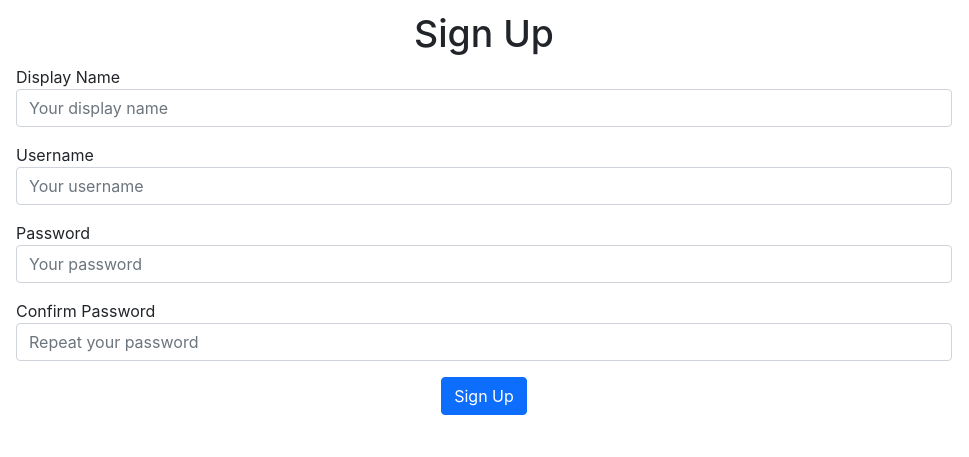
User Sign Up Page › Interactions › hides the validation error when user changes the content of username
In the field with placeholder "Your display name": (484, 108) [16,89,952,127], type "my-display-name"
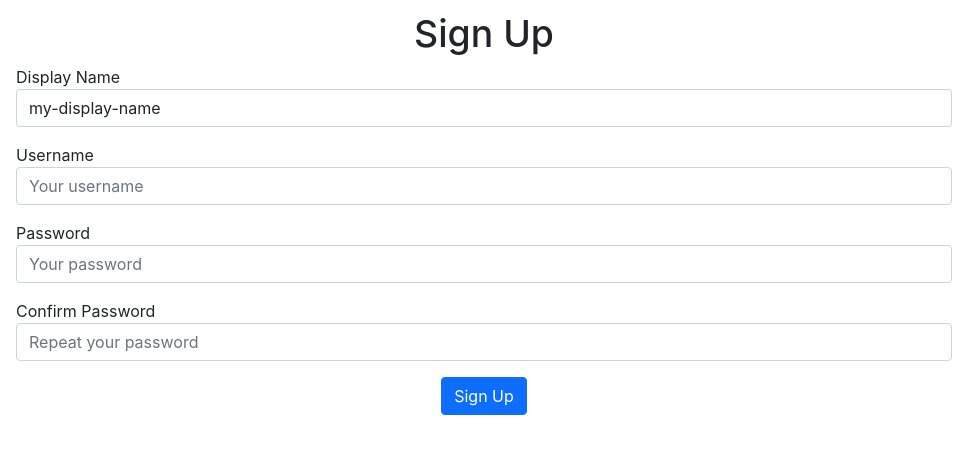
In the field with placeholder "Your username": (484, 186) [16,167,952,205], type "my-username"
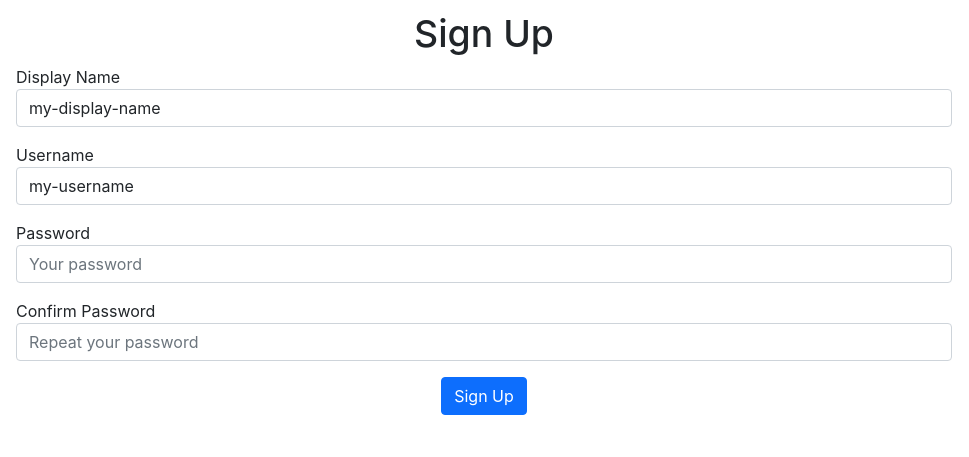
In the password field with placeholder "Your password": (484, 264) [16,245,952,283], type "P4ssword"
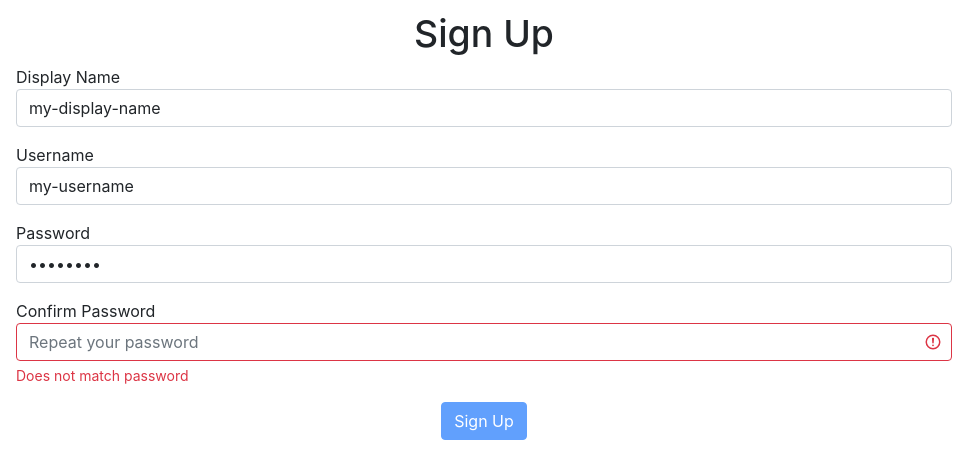
In the password field with placeholder "Repeat your password": (484, 342) [16,323,952,361], type "P4ssword"
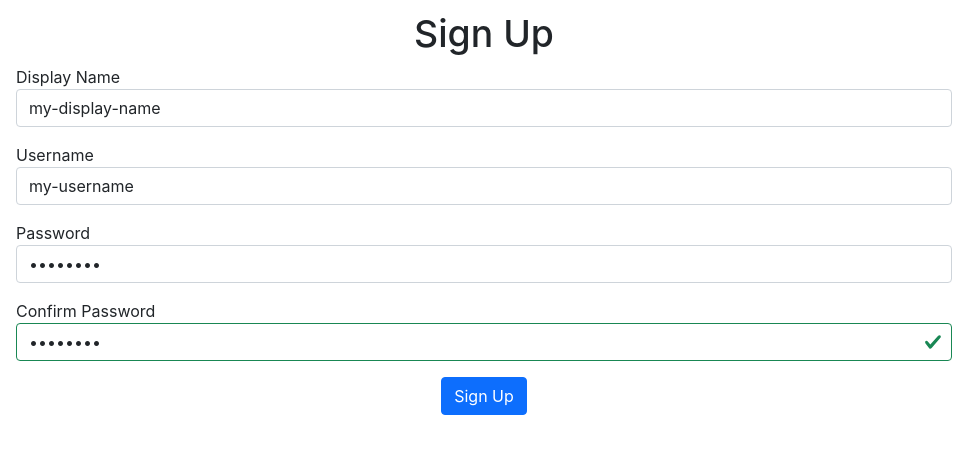
Click the button "Sign Up": (484, 396) [441,377,527,415]
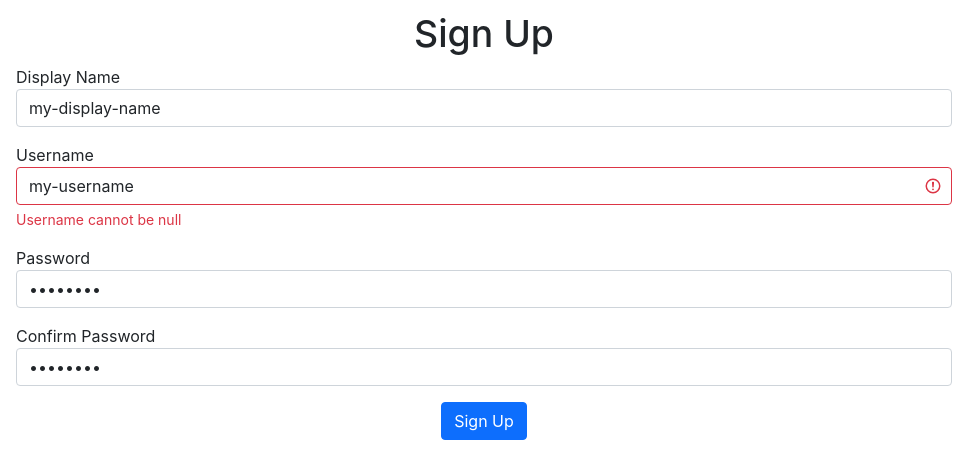
Result: the text "Username cannot be null" is shown at [16,211,181,228]
Replace the text in the 2nd field with placeholder "Your username" with "name updated": (484, 186) [16,167,952,205]
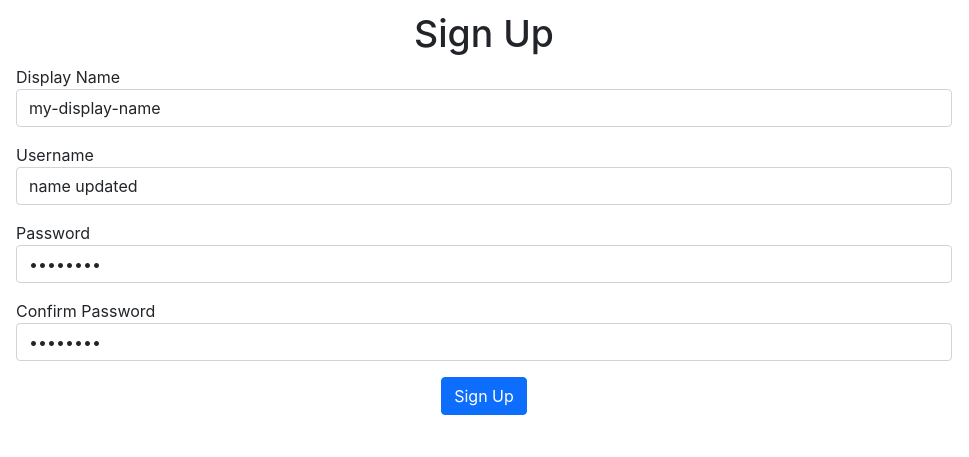
Result: the text "Username cannot be null" is gone
